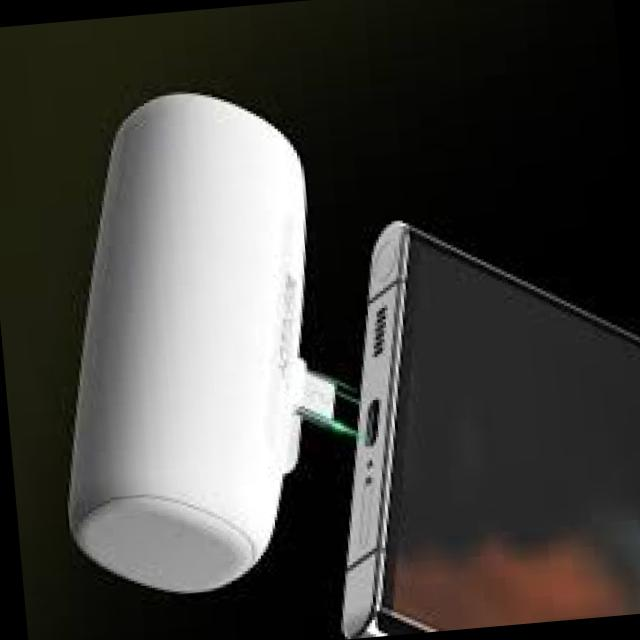power_bank: (17, 75, 362, 608)
